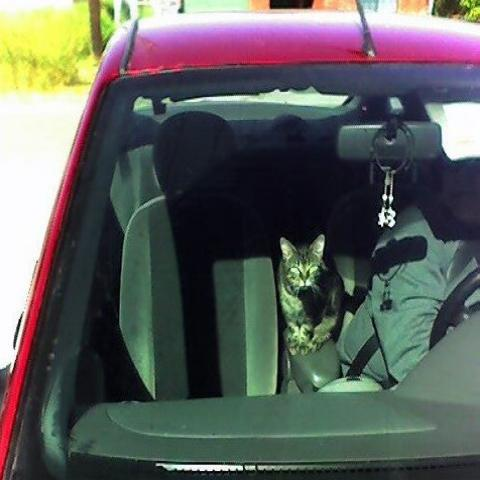car: (1, 8, 479, 476)
